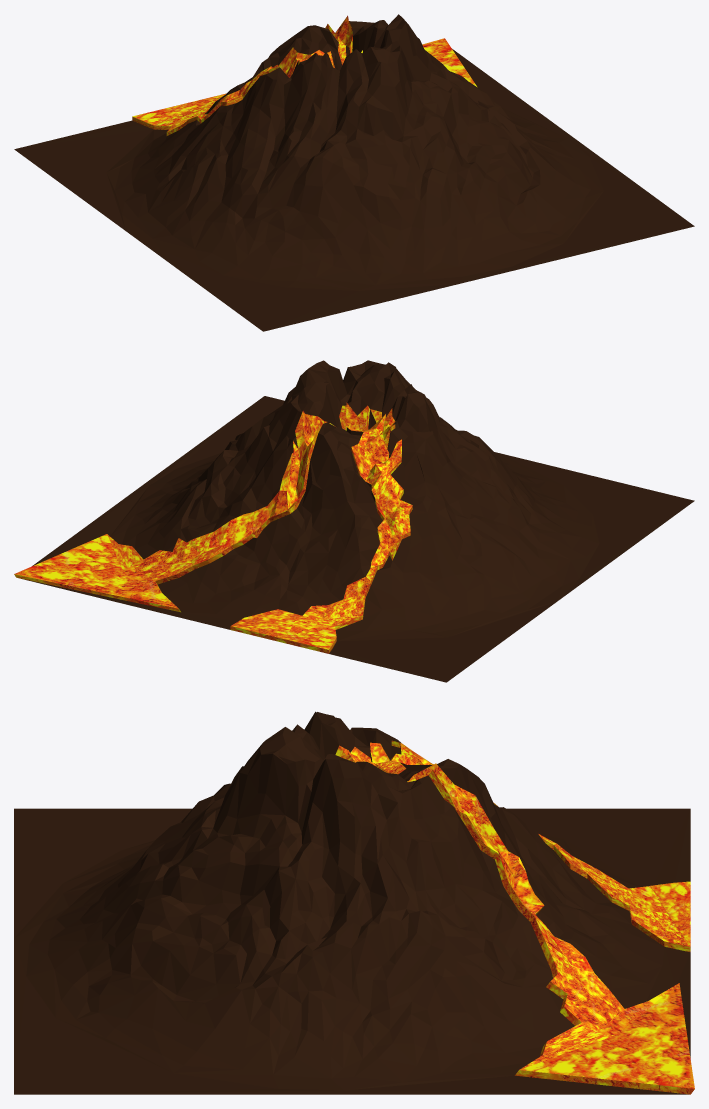
Rendered from volcano.obj.
The picture shows the model from 3 angles, top to bottom: view 1: azimuth 30°, elevation 25°; view 2: azimuth 150°, elevation 25°; view 3: azimuth 270°, elevation 25°; orthographic projection. The views are drawn at different scales.
Parts seen in each view (by area): view 1: Volcano_Landscape; view 2: Volcano_Landscape; view 3: Volcano_Landscape.
Part boxes in pixels (left/top/right/bottom): Volcano_Landscape: left=14, top=14, right=694, bottom=331; Volcano_Landscape: left=14, top=360, right=694, bottom=682; Volcano_Landscape: left=14, top=711, right=694, bottom=1094.
Bounding box in the file's own units: 352 × 127 × 354.
